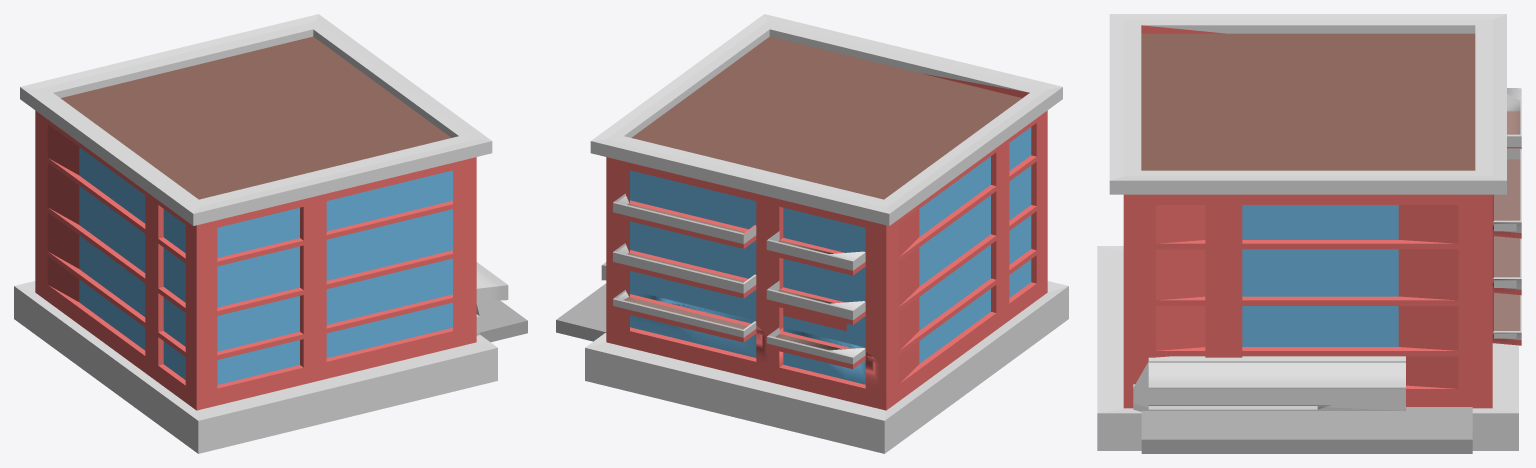
The model's file is RedBuilding4x4x3.fbx.
The picture shows the model from 3 angles, left to right: view 1: azimuth 30°, elevation 25°; view 2: azimuth 150°, elevation 25°; view 3: azimuth 270°, elevation 25°; orthographic projection. The views are drawn at different scales.
Parts seen in each view (by area): view 1: House; view 2: House; view 3: House.
Part boxes in pixels (left/top/right/bottom): House: left=14, top=14, right=527, bottom=453; House: left=556, top=14, right=1068, bottom=453; House: left=1097, top=14, right=1521, bottom=453.
Size of the model in its own units: 4.6 by 2.97 by 4.23.
1 material, 1 textured.
